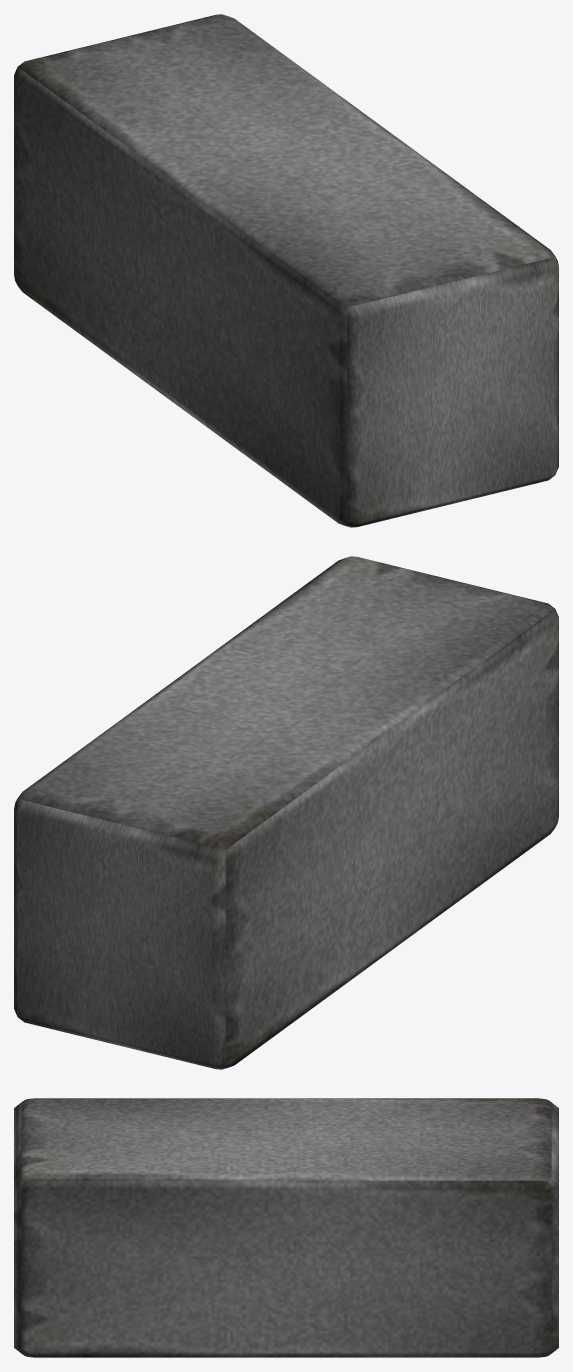
File: GenBrickHigher.fbx
3 views of the same model, one above another, from view 1: azimuth 30°, elevation 25°; view 2: azimuth 150°, elevation 25°; view 3: azimuth 270°, elevation 25° (orthographic). The views are drawn at different scales.
Visible parts, largest first — view 1: GenHouse_Mod_BrickHigh; view 2: GenHouse_Mod_BrickHigh; view 3: GenHouse_Mod_BrickHigh.
Boxes of the visible parts, x1,y1,x2,y2 form: GenHouse_Mod_BrickHigh: (14, 14, 558, 527); GenHouse_Mod_BrickHigh: (14, 556, 558, 1069); GenHouse_Mod_BrickHigh: (14, 1098, 558, 1357).
Size of the model in its own units: 0.3264 by 0.3264 by 0.8878.
Materials: 1 (1 with a texture image).
